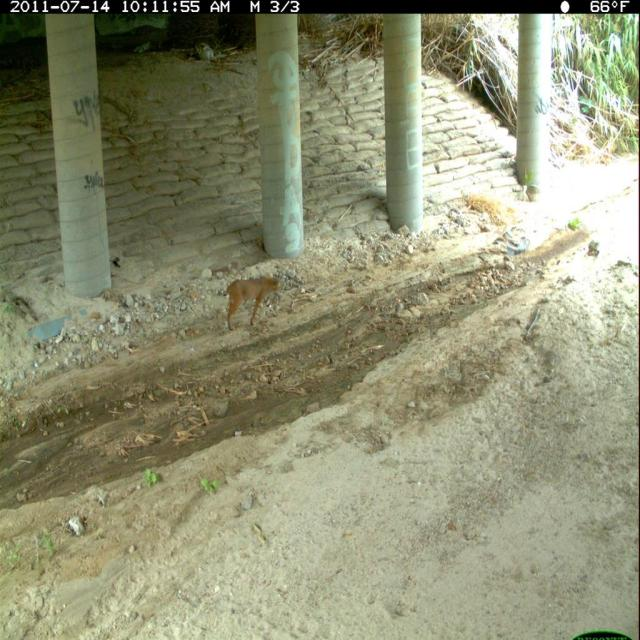bobcat: (221, 269, 286, 337)
